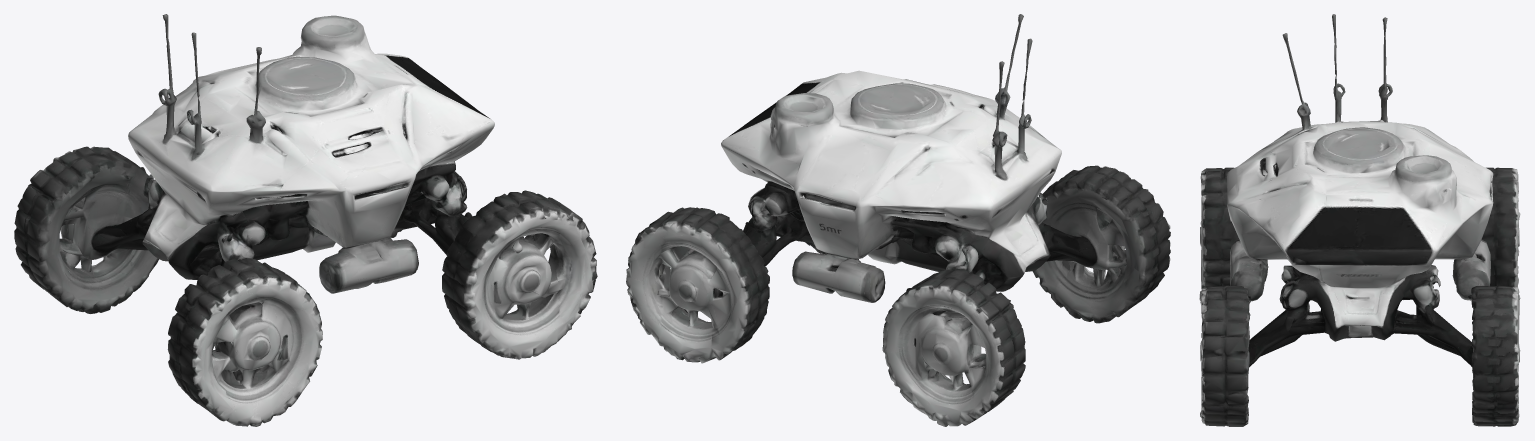
Rendered from apex-cosmos-rover.glb.
3 renders of one model, left to right at view 1: azimuth 30°, elevation 25°; view 2: azimuth 150°, elevation 25°; view 3: azimuth 270°, elevation 25°, orthographic. The views are drawn at different scales.
Bounding box in the file's own units: 2 × 1.59 × 1.56.
1 material, 1 textured.
